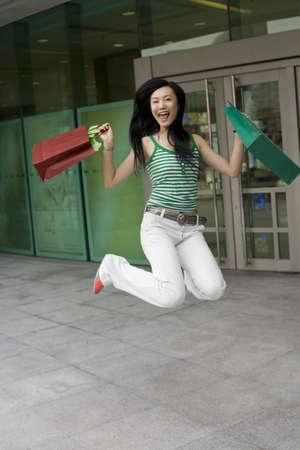person: (92, 76, 247, 308)
